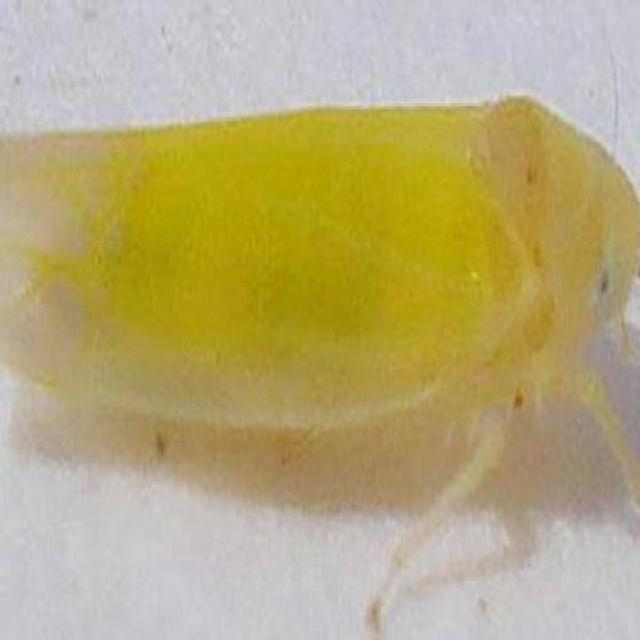green-leafhopper: (0, 98, 638, 633)
